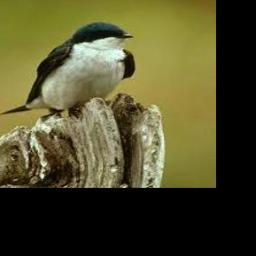Swallow: (1, 22, 135, 116)
